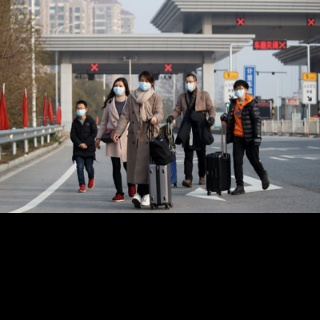with_mask: (139, 78, 152, 91), (112, 84, 126, 96), (75, 106, 87, 118), (184, 79, 195, 92), (235, 86, 245, 98)
